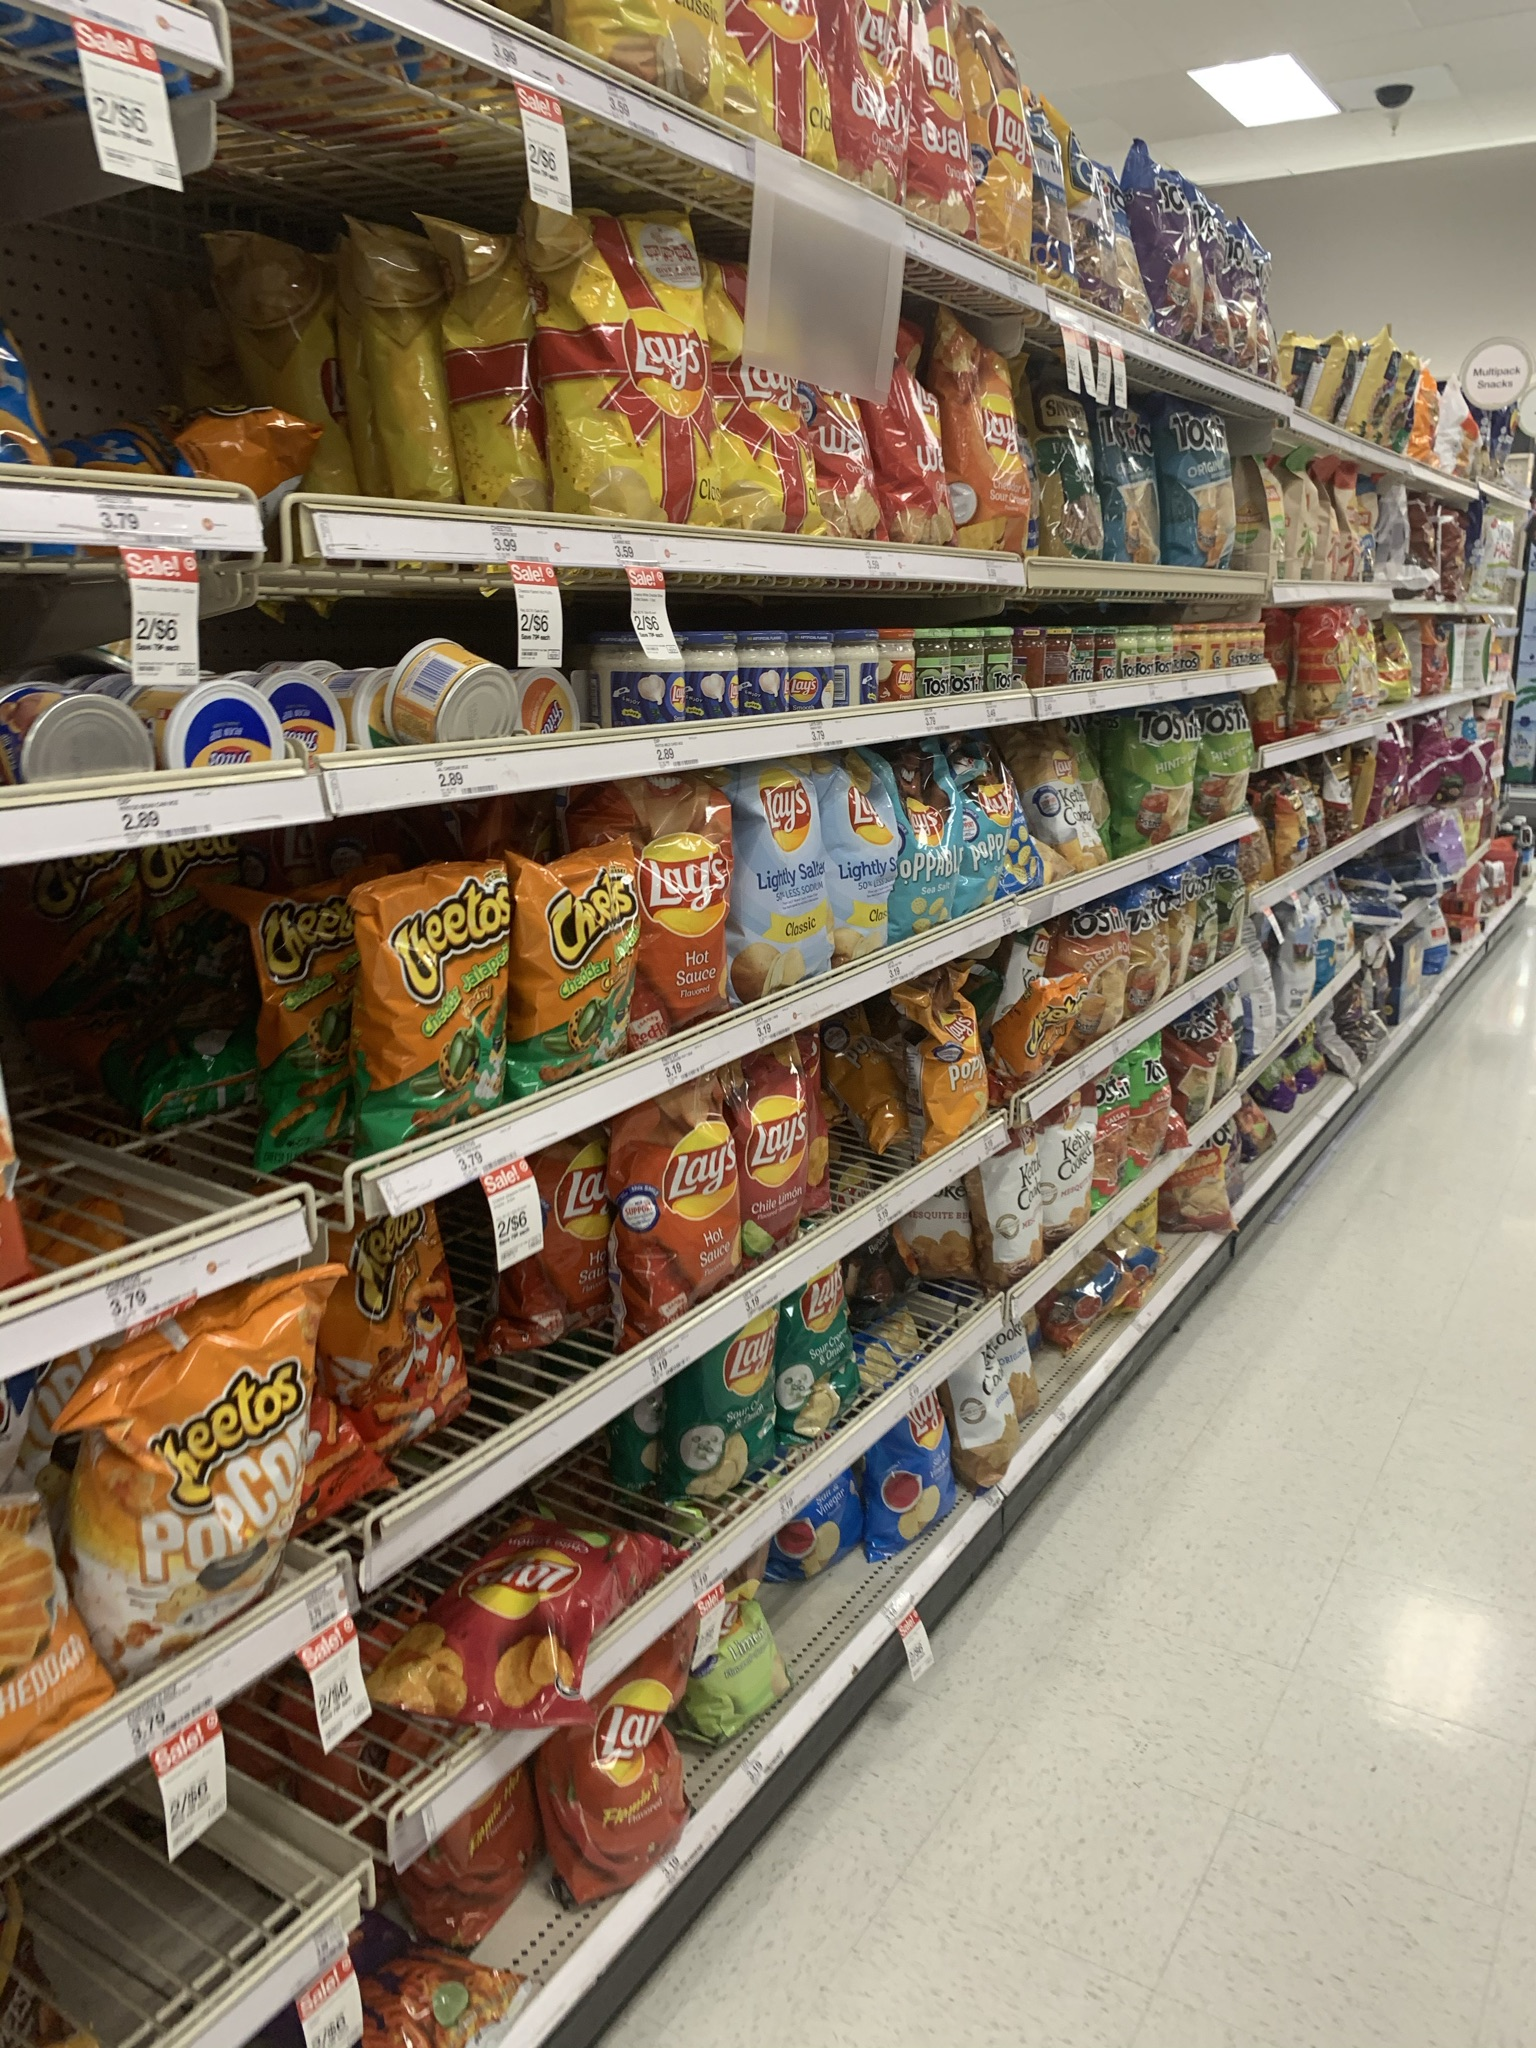chip: (81, 1327, 310, 1643), (524, 189, 715, 535), (387, 1532, 673, 1705), (526, 1634, 705, 1892), (365, 887, 520, 1150), (592, 772, 736, 1039), (310, 1226, 465, 1453), (611, 1080, 750, 1317), (515, 843, 639, 1089), (950, 18, 1052, 273), (728, 760, 836, 998), (670, 1292, 791, 1498), (753, 1250, 873, 1451), (731, 1042, 828, 1284), (816, 753, 907, 977), (842, 1380, 966, 1538), (897, 947, 994, 1135), (886, 735, 975, 939), (833, 2, 916, 194), (1105, 705, 1205, 864), (1158, 400, 1241, 577), (997, 921, 1075, 1087), (965, 727, 1031, 919), (1199, 701, 1252, 827)
